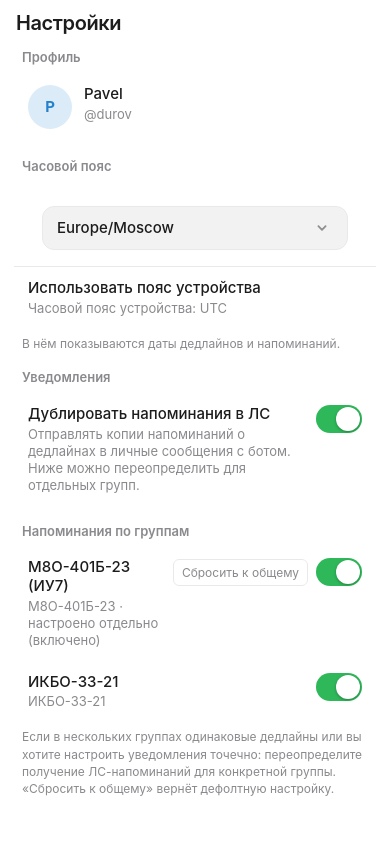
SettingsScreen: переопределения по группам › ошибка переключения не глотается (строка ошибки под секцией)
Click the checkbox with test id "group-notify-switch-42".
click(339, 572)  # box [316,558,362,586]
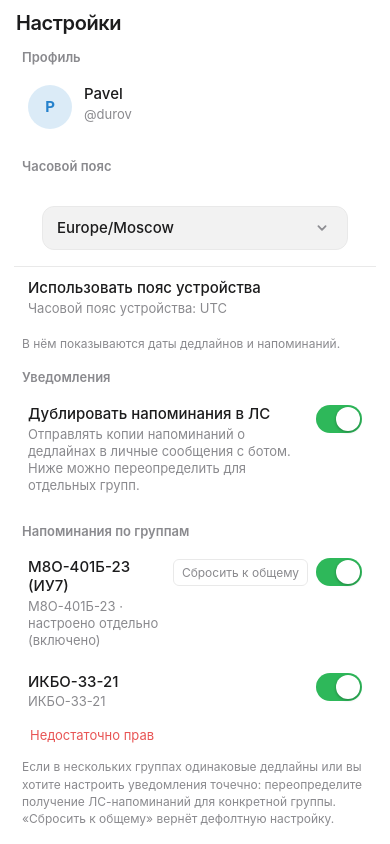
Now the message with test id "group-notify-error" reads "Недостаточно прав", box [30,727,154,743]
